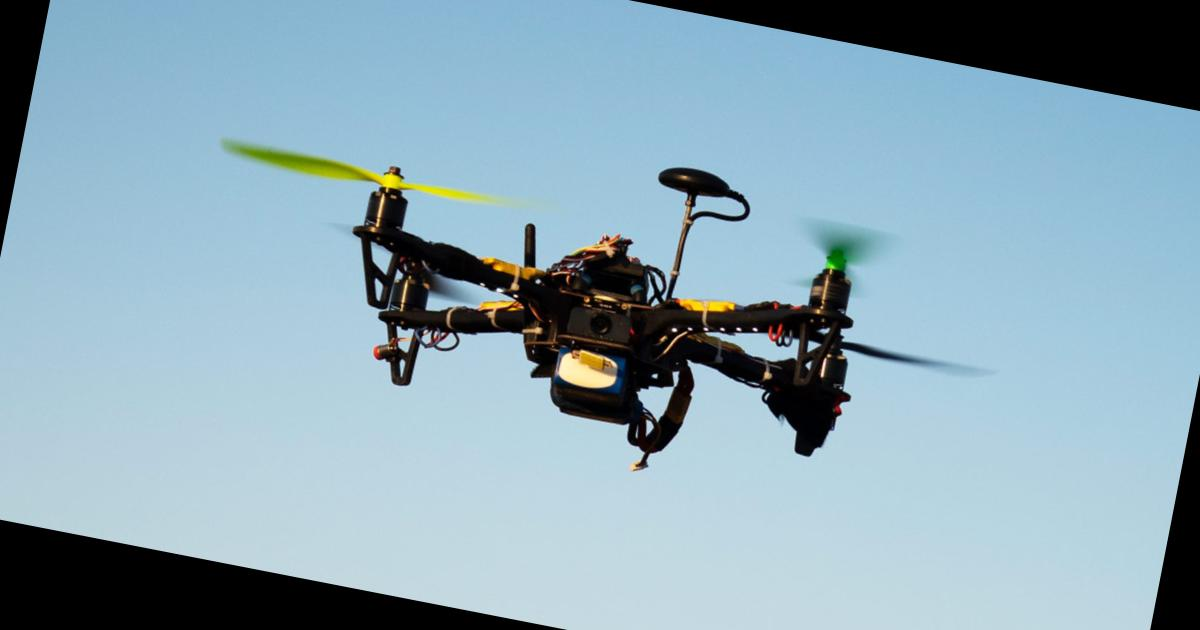drone: (212, 92, 972, 522)
